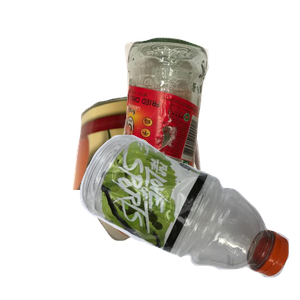glass: (112, 35, 300, 215)
metal: (69, 93, 265, 273)
plastic: (77, 132, 300, 300)
trash: (90, 129, 295, 300)
